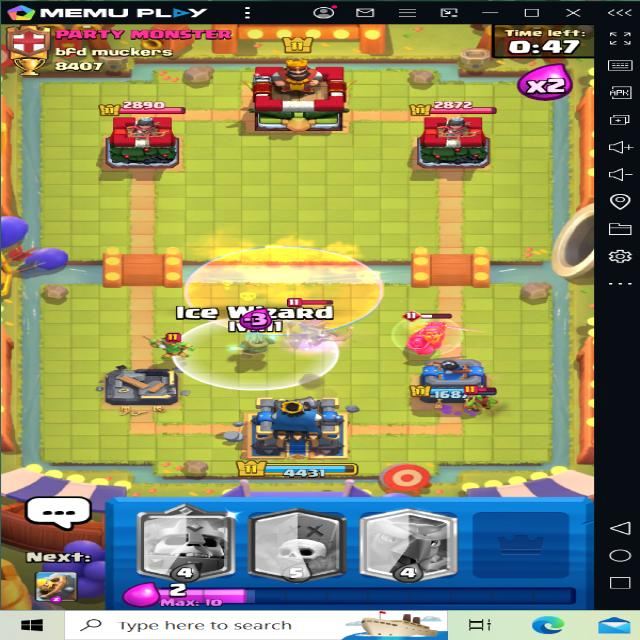archer-queen: (276, 292, 348, 342)
archer-queen-ability: (276, 293, 352, 345)
evo-knight: (397, 306, 460, 358)
goblin: (461, 384, 518, 416)
spear-goblin: (143, 325, 204, 359)
